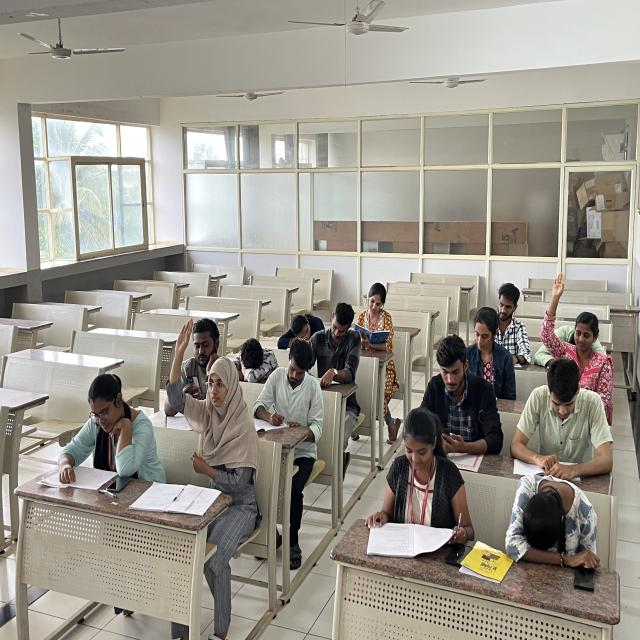Hand Rising: (162, 318, 260, 536), (538, 268, 615, 376)
Reading: (364, 401, 478, 573), (39, 366, 170, 511), (512, 356, 616, 487), (465, 301, 518, 402), (353, 276, 402, 364)
Sleeping: (508, 466, 602, 589), (224, 323, 275, 394), (272, 303, 328, 353)
Using Phone: (418, 334, 502, 459)
Writing: (251, 336, 332, 480), (150, 304, 214, 442), (304, 296, 359, 402), (492, 270, 537, 377)
